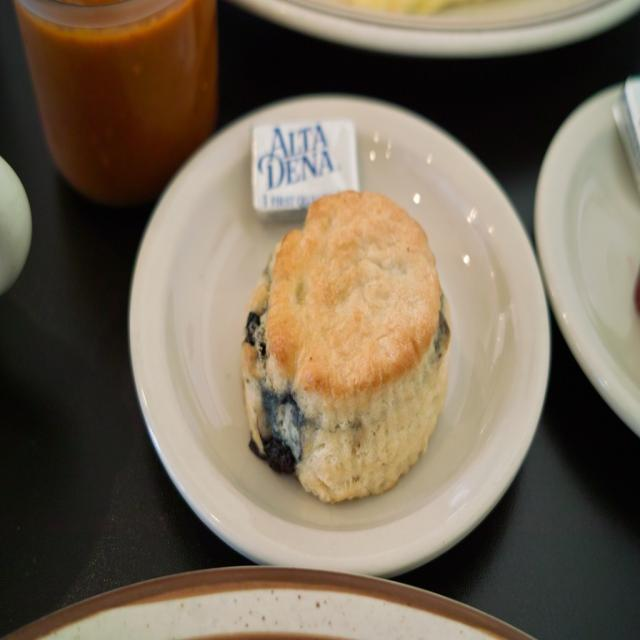Juice: (15, 0, 216, 201)
